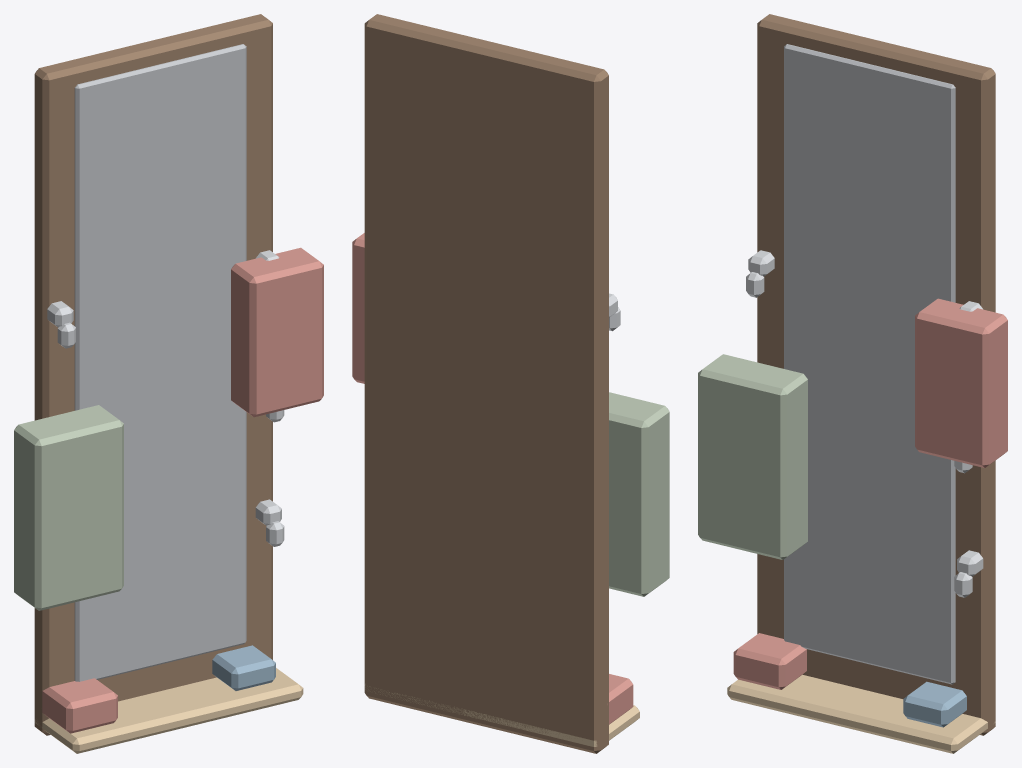
The model's file is MirrorCoatRack.glb.
3 views of the same model, side by side, from view 1: azimuth 30°, elevation 25°; view 2: azimuth 150°, elevation 25°; view 3: azimuth 330°, elevation 25° (orthographic). The views are drawn at different scales.
Parts seen in each view (by area): view 1: MirrorCoatRack_Body; view 2: MirrorCoatRack_Body; view 3: MirrorCoatRack_Body.
Boxes of the visible parts, left/top/right/bottom form: MirrorCoatRack_Body: left=14, top=14, right=323, bottom=753; MirrorCoatRack_Body: left=352, top=14, right=669, bottom=753; MirrorCoatRack_Body: left=698, top=14, right=1007, bottom=753.
Bounding box in the file's own units: 0.78 × 1.7 × 0.2.
